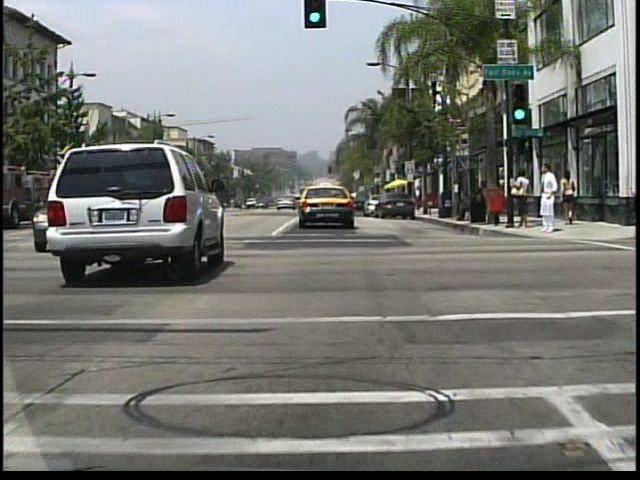person: (538, 163, 559, 234), (513, 166, 531, 232), (558, 169, 576, 226), (454, 188, 474, 222), (476, 179, 488, 219), (413, 186, 424, 213)
